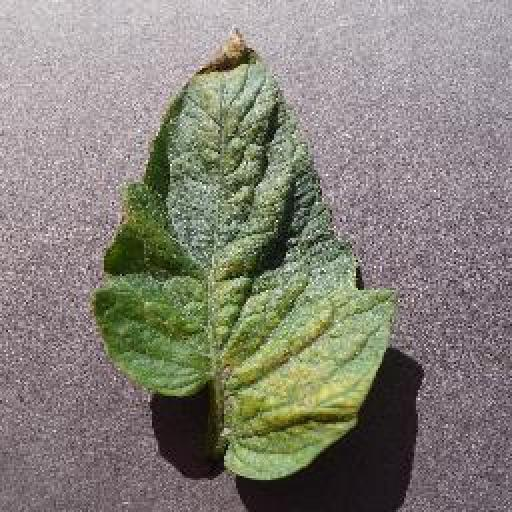Spider Mites: (91, 27, 395, 481)
